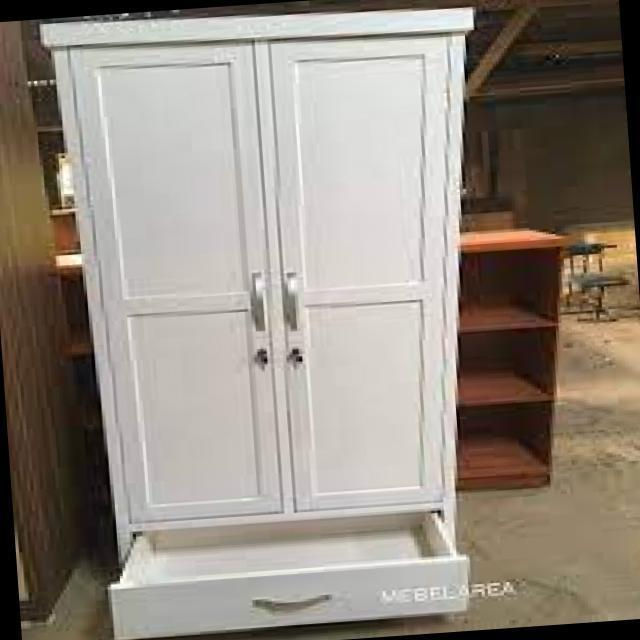Lemari: (39, 6, 471, 637)
